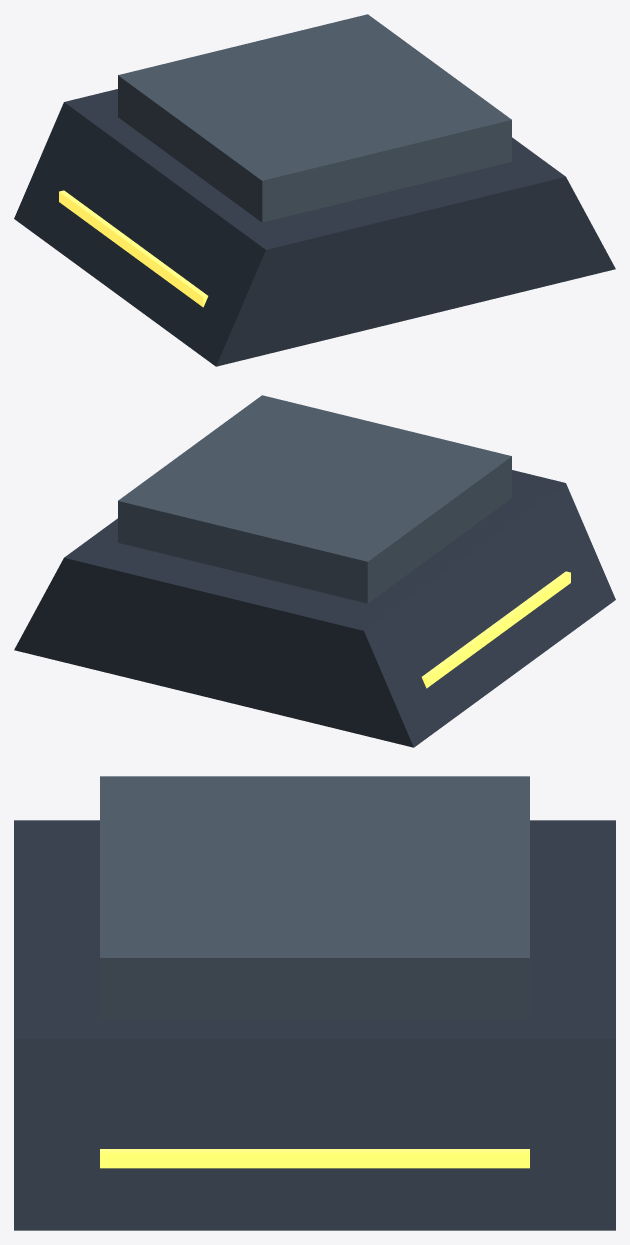
File: sentinel_base.glb
3 renders of one model, top to bottom at view 1: azimuth 30°, elevation 25°; view 2: azimuth 150°, elevation 25°; view 3: azimuth 270°, elevation 25°, orthographic. The views are drawn at different scales.
Visible parts, largest first — view 1: sentinel_base; view 2: sentinel_base; view 3: sentinel_base.
Part boxes in pixels (left/top/right/bottom): sentinel_base: left=14, top=14, right=615, bottom=366; sentinel_base: left=14, top=395, right=615, bottom=747; sentinel_base: left=14, top=776, right=615, bottom=1230.
Size of the model in its own units: 8 by 2.8 by 7.
